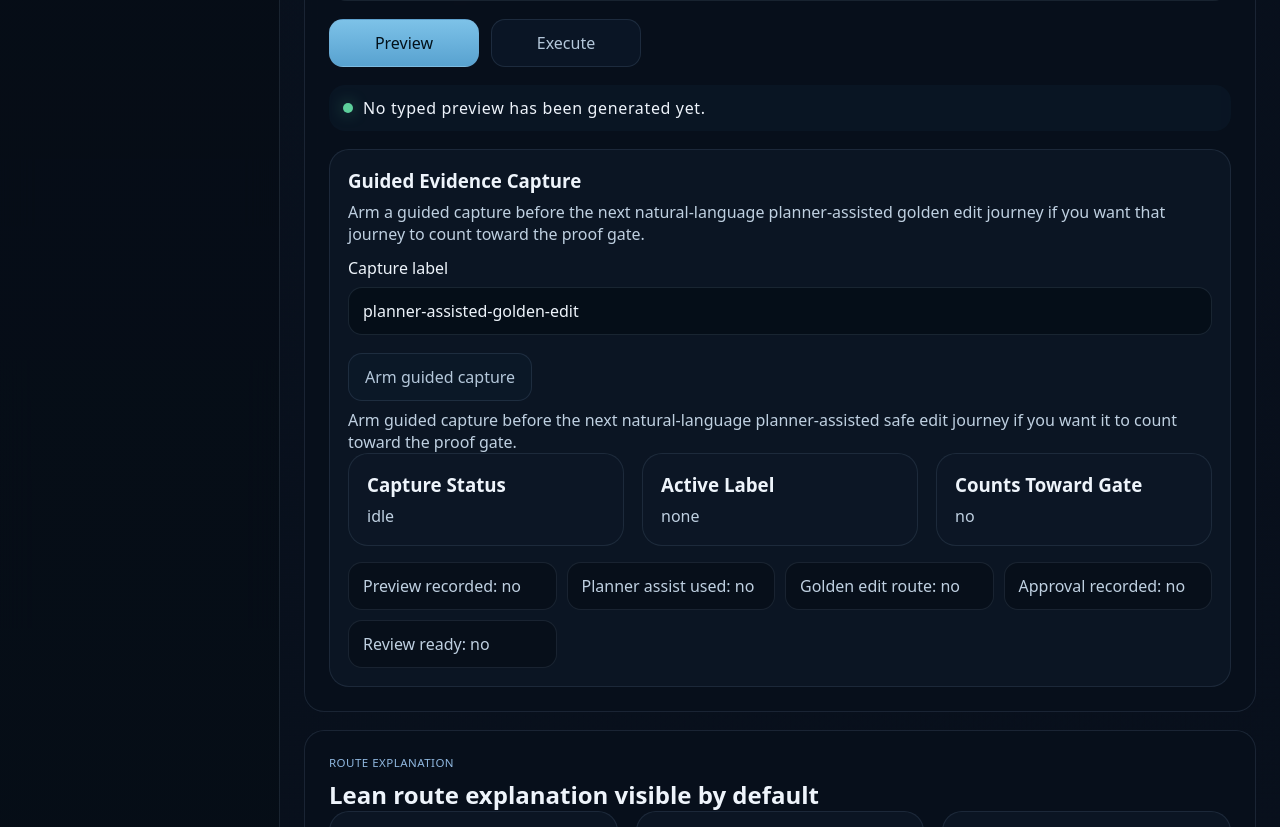
it: Phase 6 renderer shell › tags the next planner-assisted golden edit journey when guided capture is armed
The image size is (1280, 827).
(page scrolled)
Click the button "Arm guided capture".
click(440, 377)  # box [348,353,532,401]
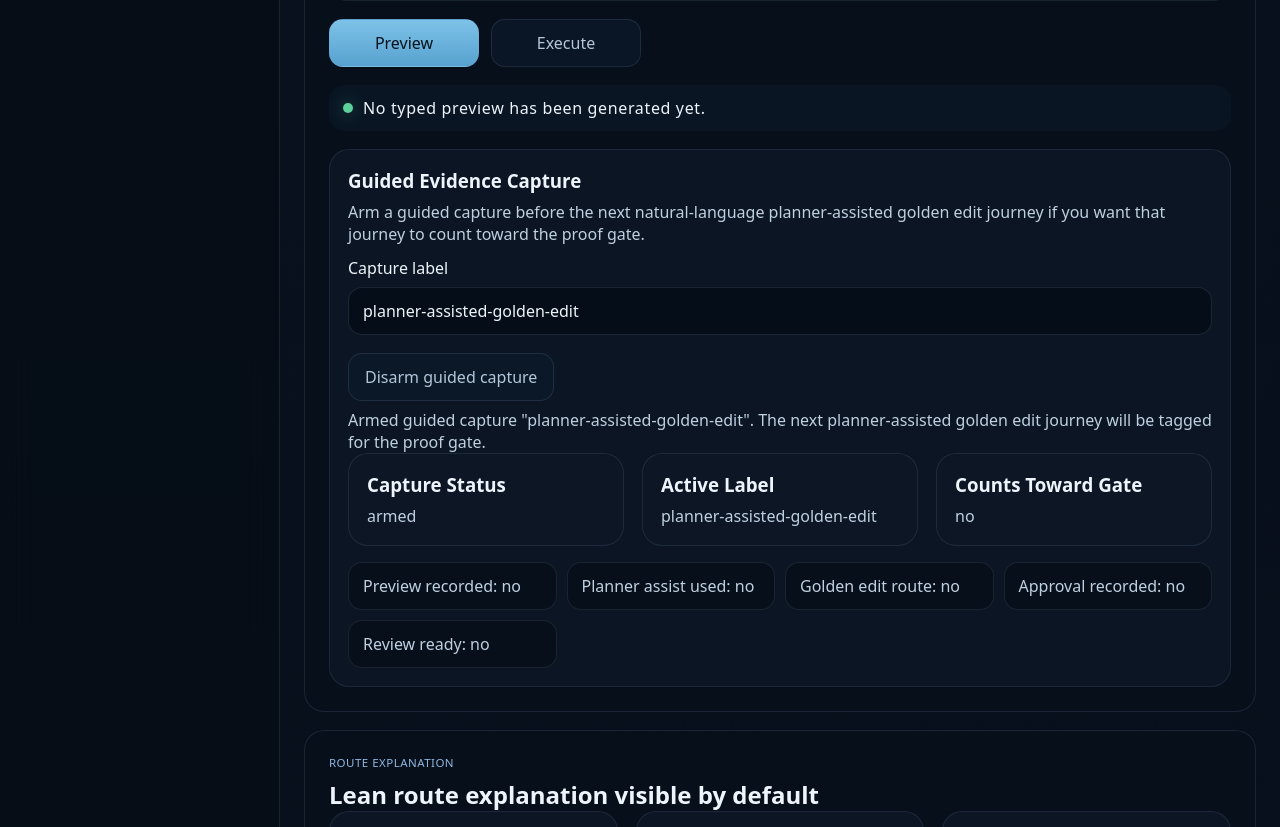
Expected: the text "Armed guided capture \"planner-assisted-golden-edit\"" is shown, [348,409,1212,453]
Click the button "Preview".
click(404, 43)  # box [329,19,479,67]
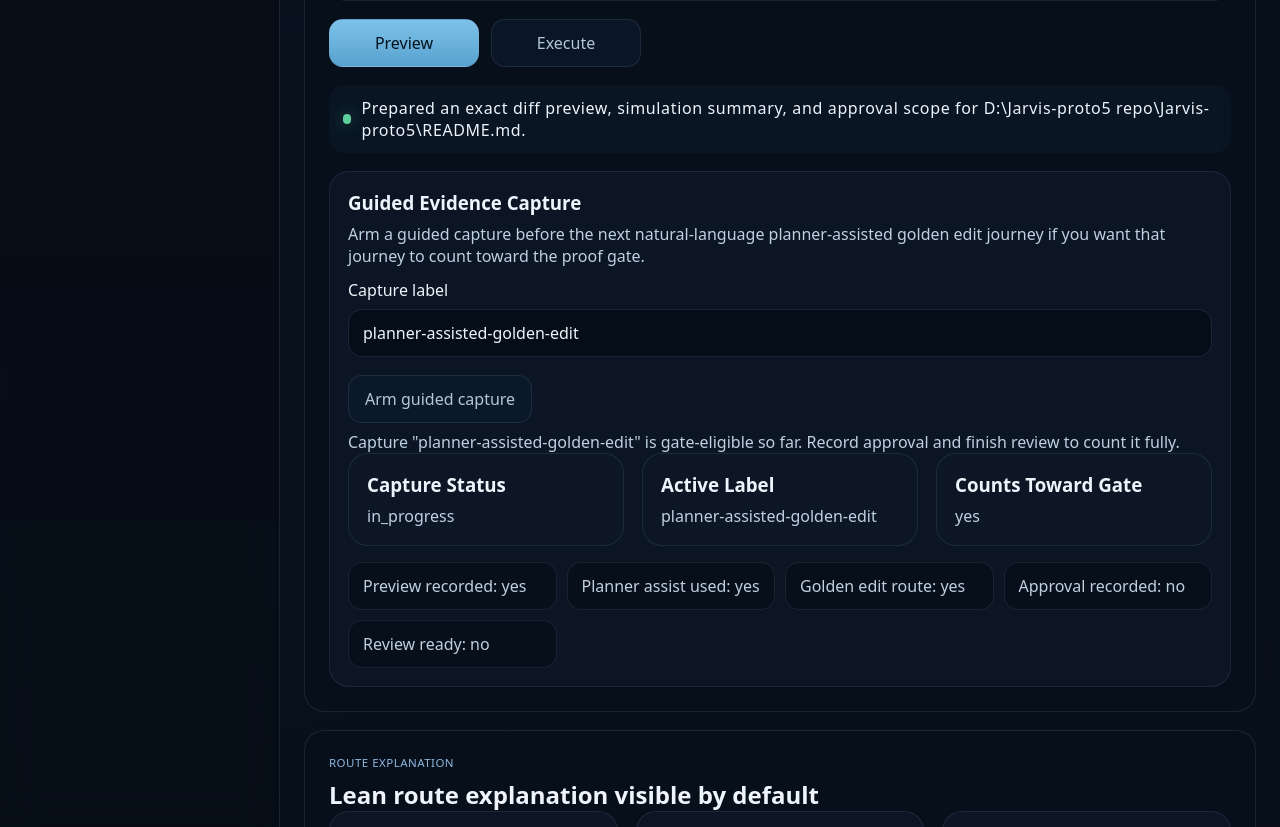
Expected: the text "Capture \"planner-assisted-golden-edit\" is gate-eligible so far" is shown, [348,431,1180,453]
Expected: the text "yes" is shown, [955,505,980,527]
